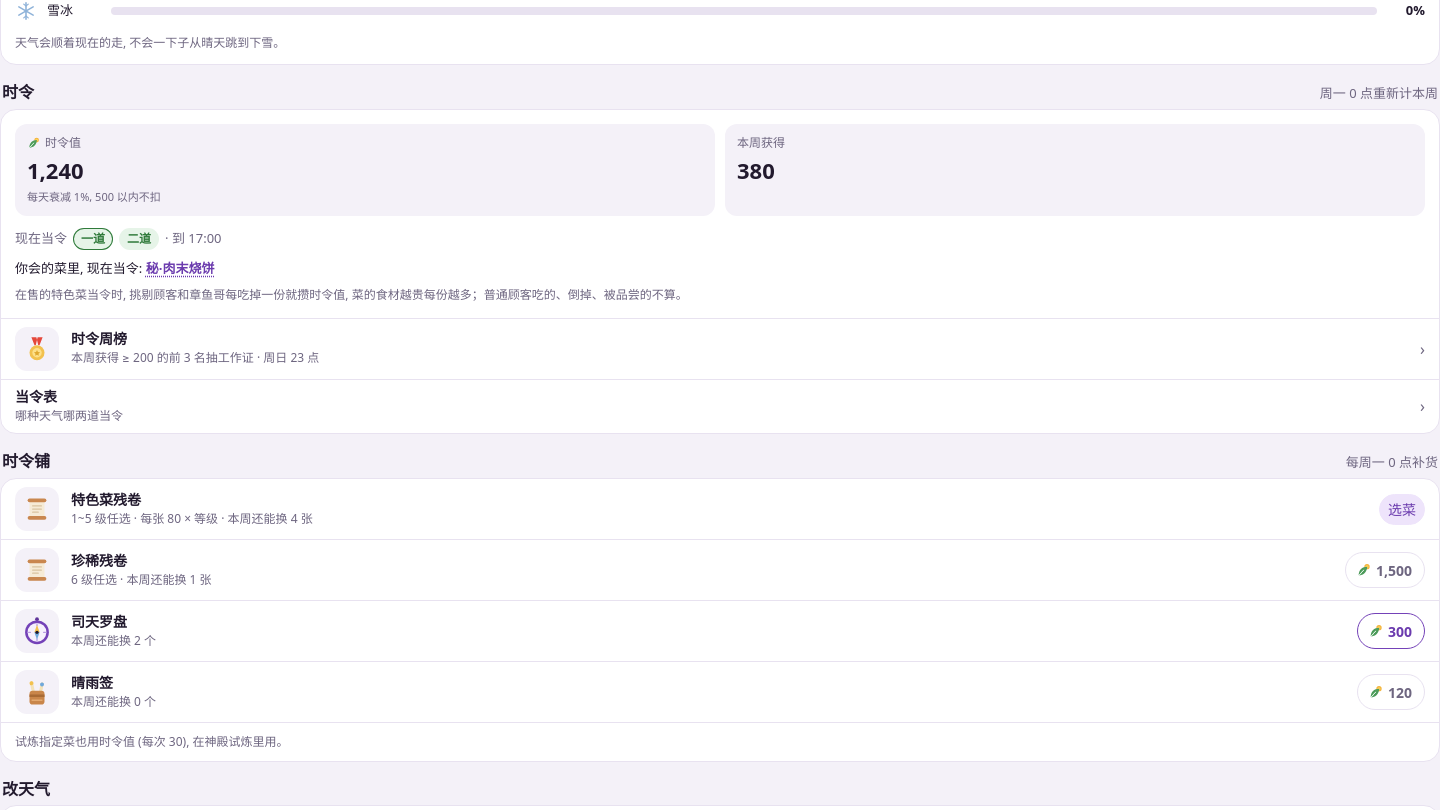
Scenario: 时令（天气改版 PR②，设计图 Sl-A~Sl-D） › 当令表：按类分组、日夜合一行、现在的那行标出来；特殊天气一组
(page scrolled)
Click the button with test id "shiling-table-open".
click(36, 396)  # box top-left (1, 379), bottom-right (1439, 433)
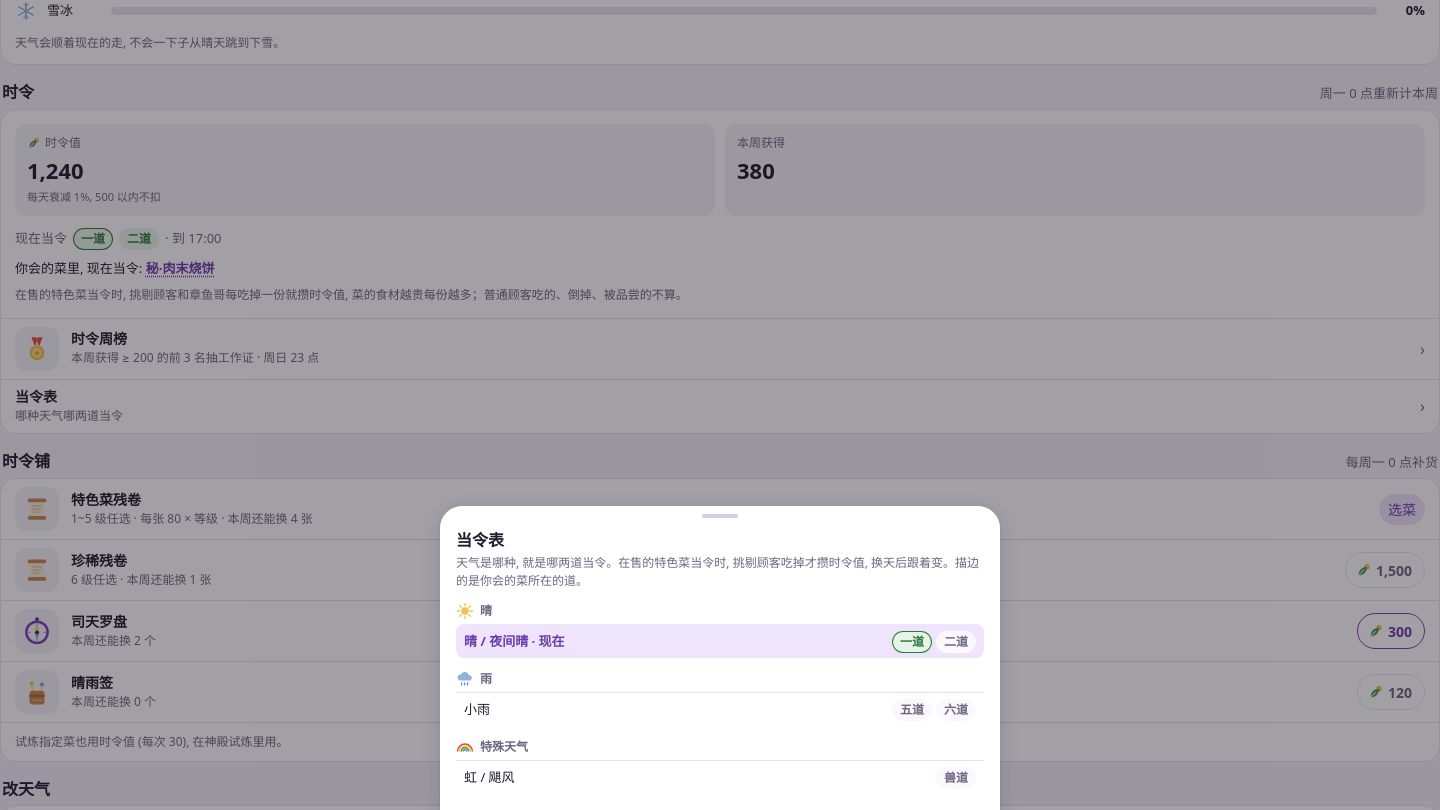
Expected: the element with test id "season-row-1" shows "晴 / 夜间晴 · 现在", top-left (456, 624), bottom-right (984, 658)
Expected: the element with test id "season-row-6" shows "虹 / 飓风", top-left (464, 768), bottom-right (515, 786)
Expected: the element with test id "season-row-6" shows "兽道", top-left (944, 768), bottom-right (968, 786)
